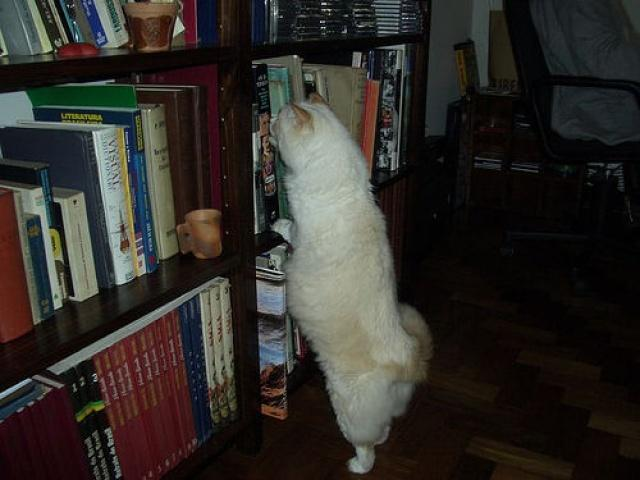Rak: (0, 0, 249, 477)
